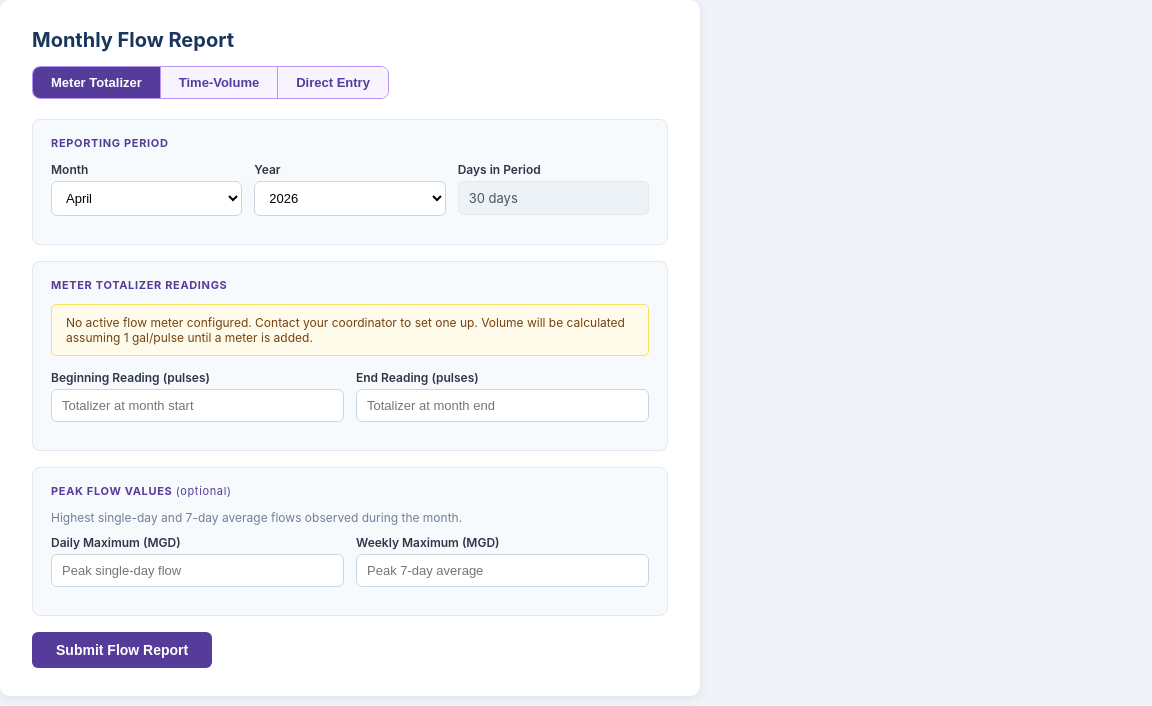
Test: MonthlyFlowForm — time-volume method › shows live GPM and total flow when measurement is valid
The width and height of the screenshot is (1152, 706).
Click the button "Time-Volume": (220, 82) [161, 67, 278, 98]
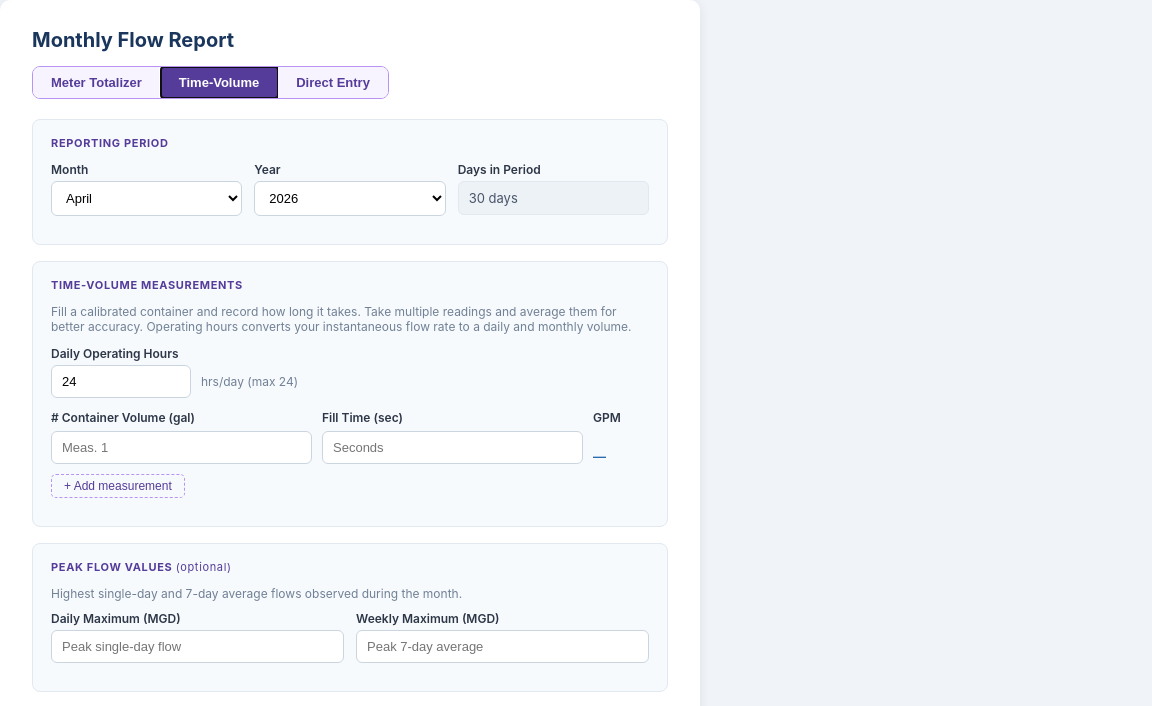
In the number field with placeholder "Meas. 1": (182, 448) [51, 431, 312, 464], type "10"
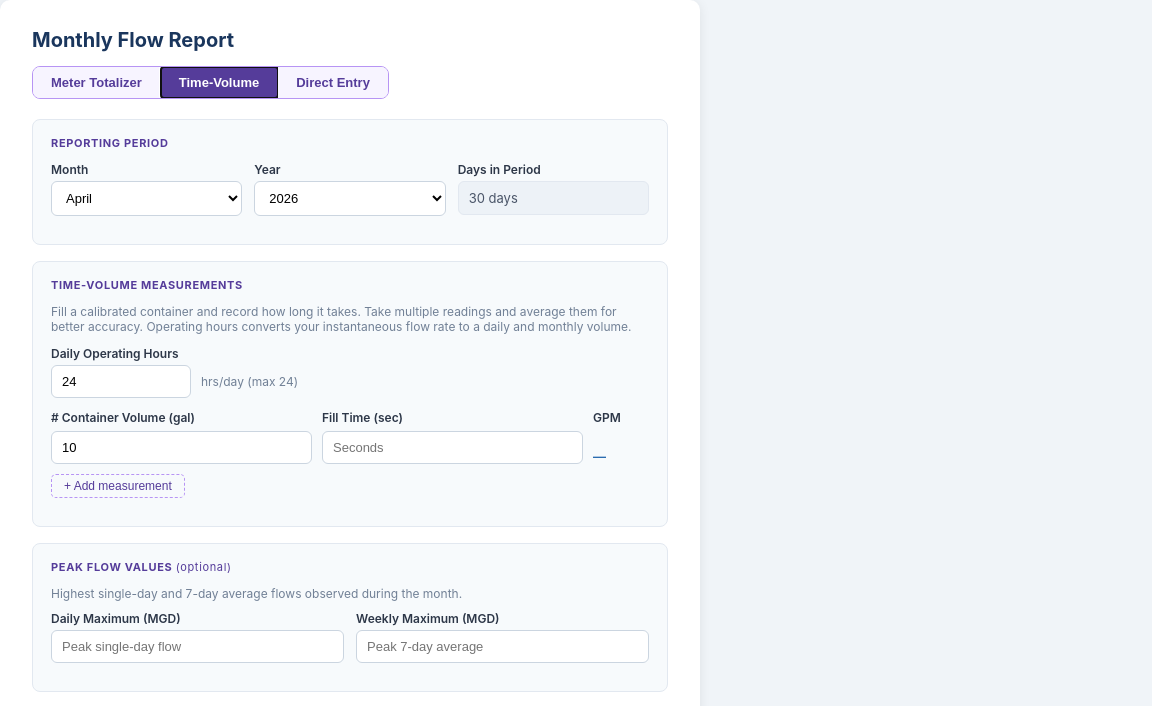
In the number field with placeholder "Seconds": (452, 448) [322, 431, 583, 464], type "60"
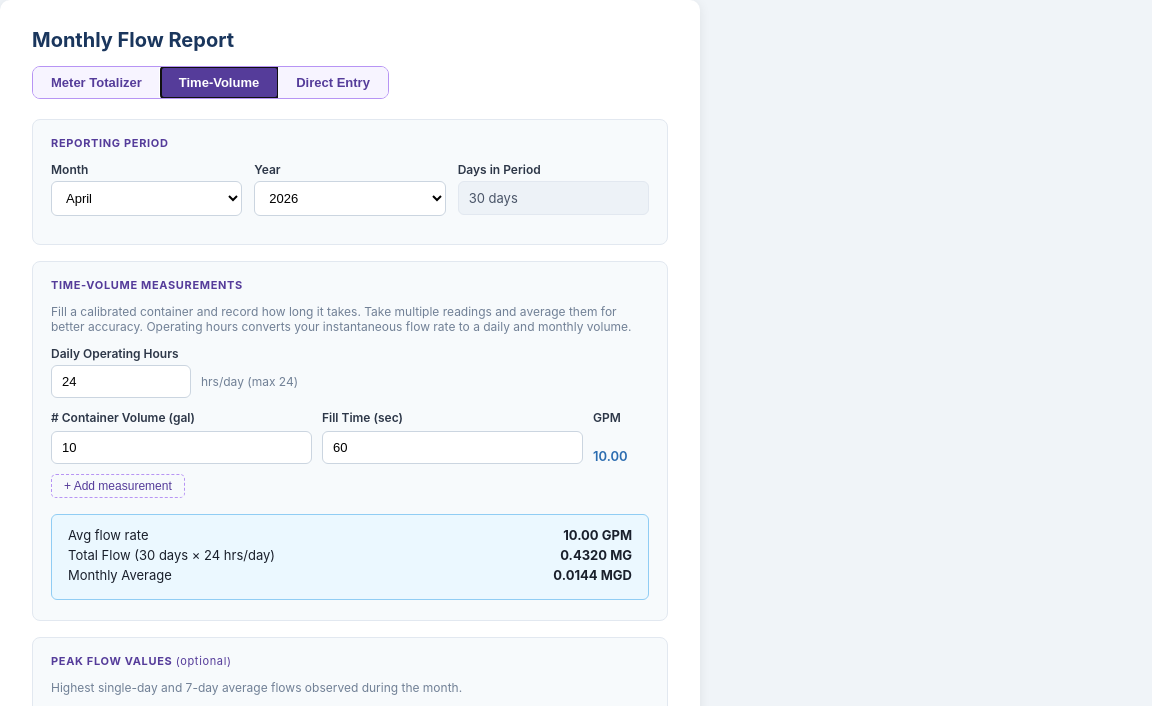
Check: the text "10.00 GPM" is shown, box [563, 527, 632, 543]
Check: the text "0.4320 MG" is shown, box [560, 547, 632, 563]
